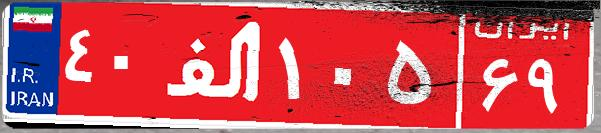0: (330, 28, 385, 110), (110, 28, 158, 105)
1: (273, 28, 330, 110)
4: (57, 26, 110, 107)
5: (385, 28, 445, 110)
6: (475, 38, 525, 113)
9: (525, 38, 570, 115)
الف: (158, 15, 273, 115)
